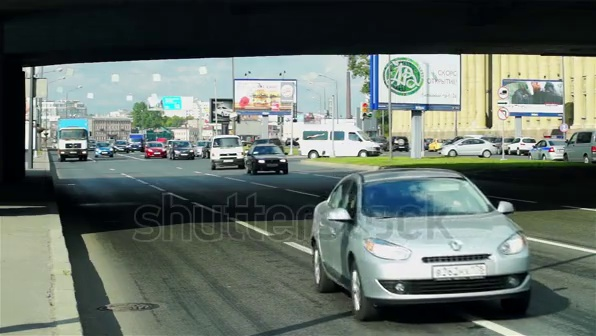licenseplate: (434, 259, 489, 281)
